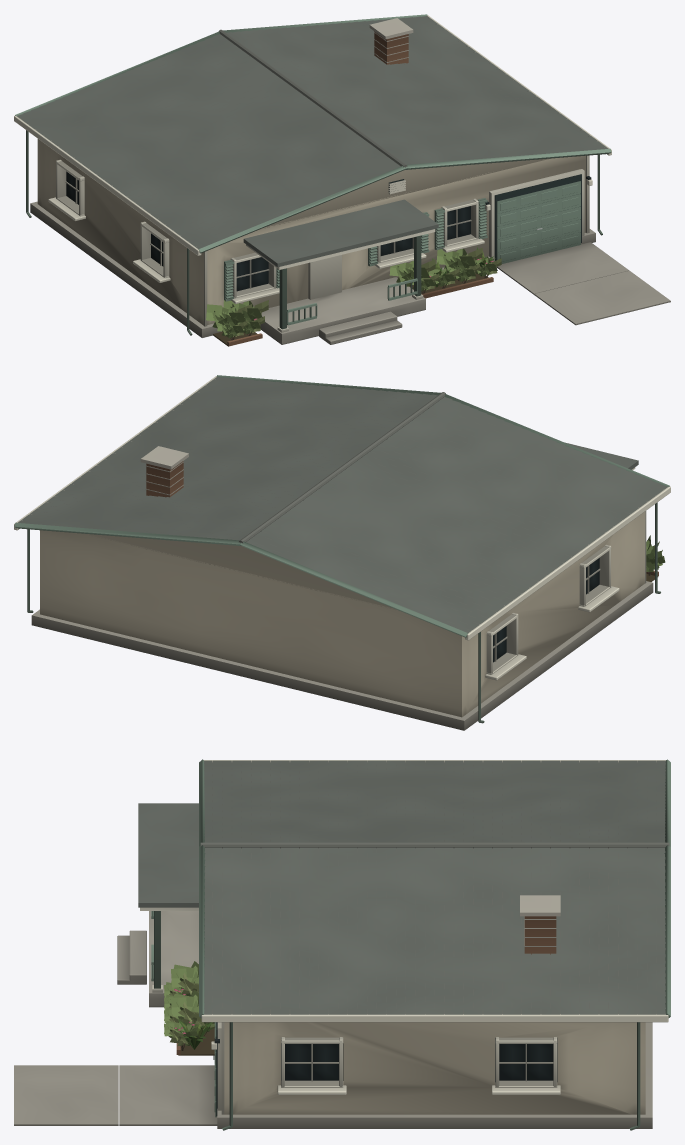
The model's file is house-0.glb.
3 renders of one model, top to bottom at view 1: azimuth 30°, elevation 25°; view 2: azimuth 150°, elevation 25°; view 3: azimuth 270°, elevation 25°, orthographic. The views are drawn at different scales.
Parts seen in each view (by area): view 1: shingle, stucco, concrete, sage, ivory, roof-edge, foliage, window-glazing, terracotta, foliage-light, window-interior; view 2: shingle, stucco, concrete, roof-edge, ivory, sage, terracotta, window-glazing; view 3: shingle, stucco, concrete, ivory, roof-edge, sage, window-glazing, foliage, terracotta, foliage-light.
Part boxes in pixels (box(x1,y1,x2,y2)): shingle: box(17, 16, 608, 267); stucco: box(37, 139, 585, 325); concrete: box(30, 18, 670, 344); sage: box(15, 14, 611, 335); ivory: box(14, 15, 611, 332); roof-edge: box(21, 19, 602, 246); foliage: box(206, 248, 497, 338); window-glazing: box(66, 171, 470, 291); terracotta: box(227, 31, 493, 346); foliage-light: box(229, 248, 501, 336); window-interior: box(388, 174, 581, 260); shingle: box(18, 377, 667, 632); stucco: box(40, 512, 644, 717); concrete: box(31, 446, 653, 730); roof-edge: box(24, 380, 662, 629); ivory: box(14, 376, 670, 680); sage: box(14, 375, 669, 723); terracotta: box(146, 461, 658, 575); window-glazing: box(493, 558, 599, 662); shingle: box(138, 760, 665, 1014); stucco: box(224, 1022, 645, 1114); concrete: box(14, 895, 652, 1128); ivory: box(140, 760, 668, 1114); roof-edge: box(200, 762, 669, 1013); sage: box(151, 759, 670, 1130); window-glazing: box(285, 1044, 553, 1080); foliage: box(164, 961, 214, 1045); terracotta: box(176, 916, 556, 1054); foliage-light: box(169, 972, 209, 1045).
Size of the model in its own units: 17.25 by 5.58 by 18.71.
